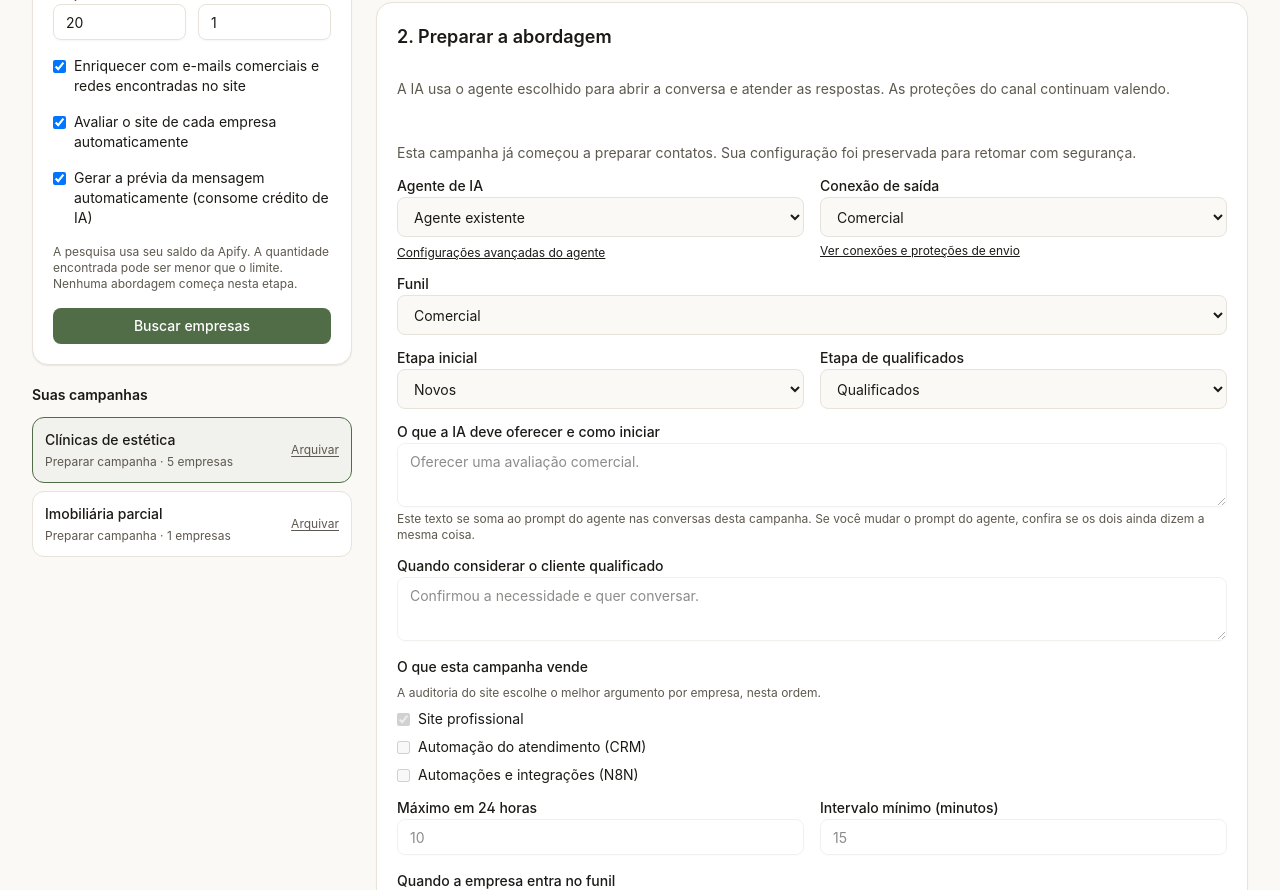
baixar a lista da campanha (issue #4360) › ao reabrir, a contagem da abertura anterior não vira link enquanto conta de novo
Later steps or results of the test are not shown.
(page scrolled)
Click the button "Clínicas de estética Preparar campanha · 5 empresas".
click(152, 450)  # box [33, 418, 271, 482]
(page scrolled)
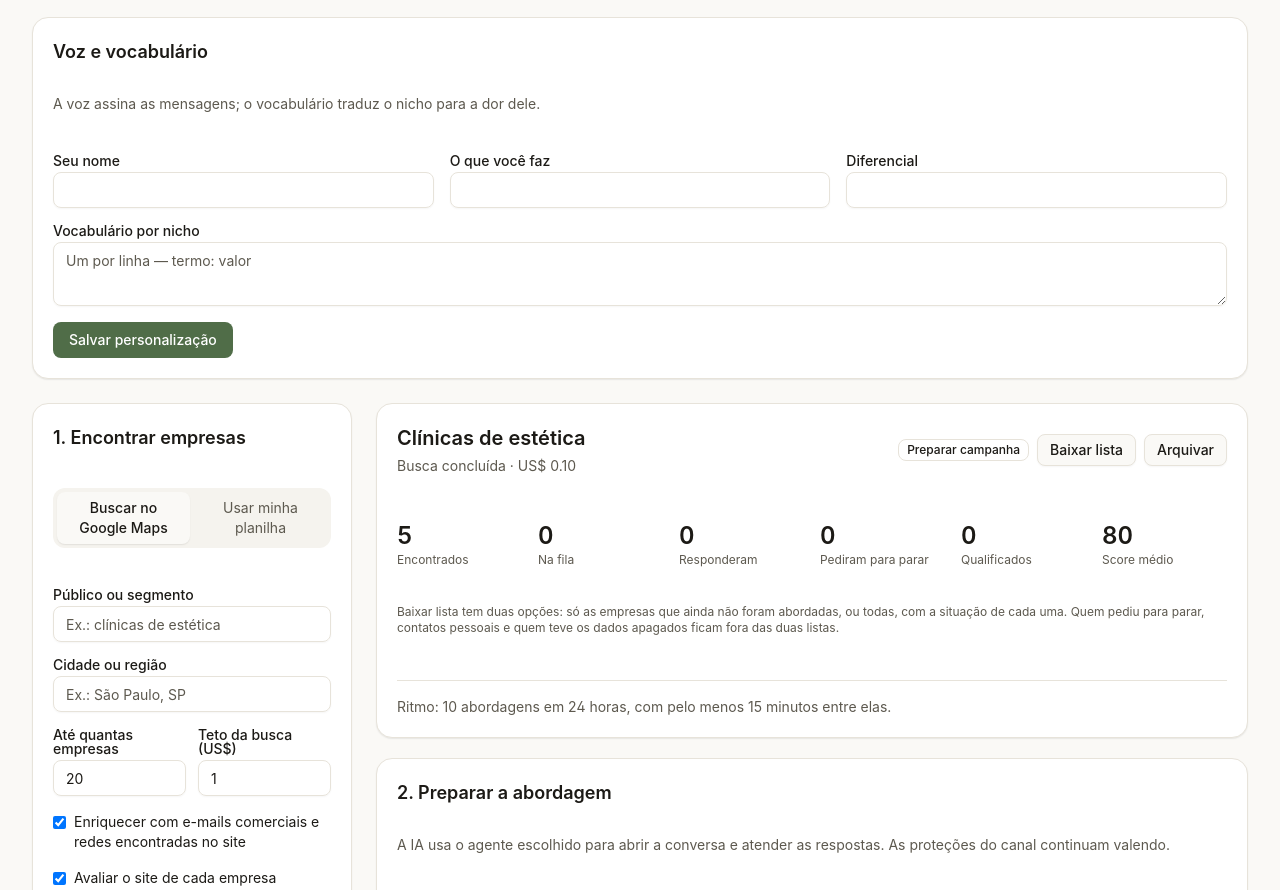
Click the button with test id "baixar-lista".
click(1086, 450)  # box [1037, 434, 1136, 466]
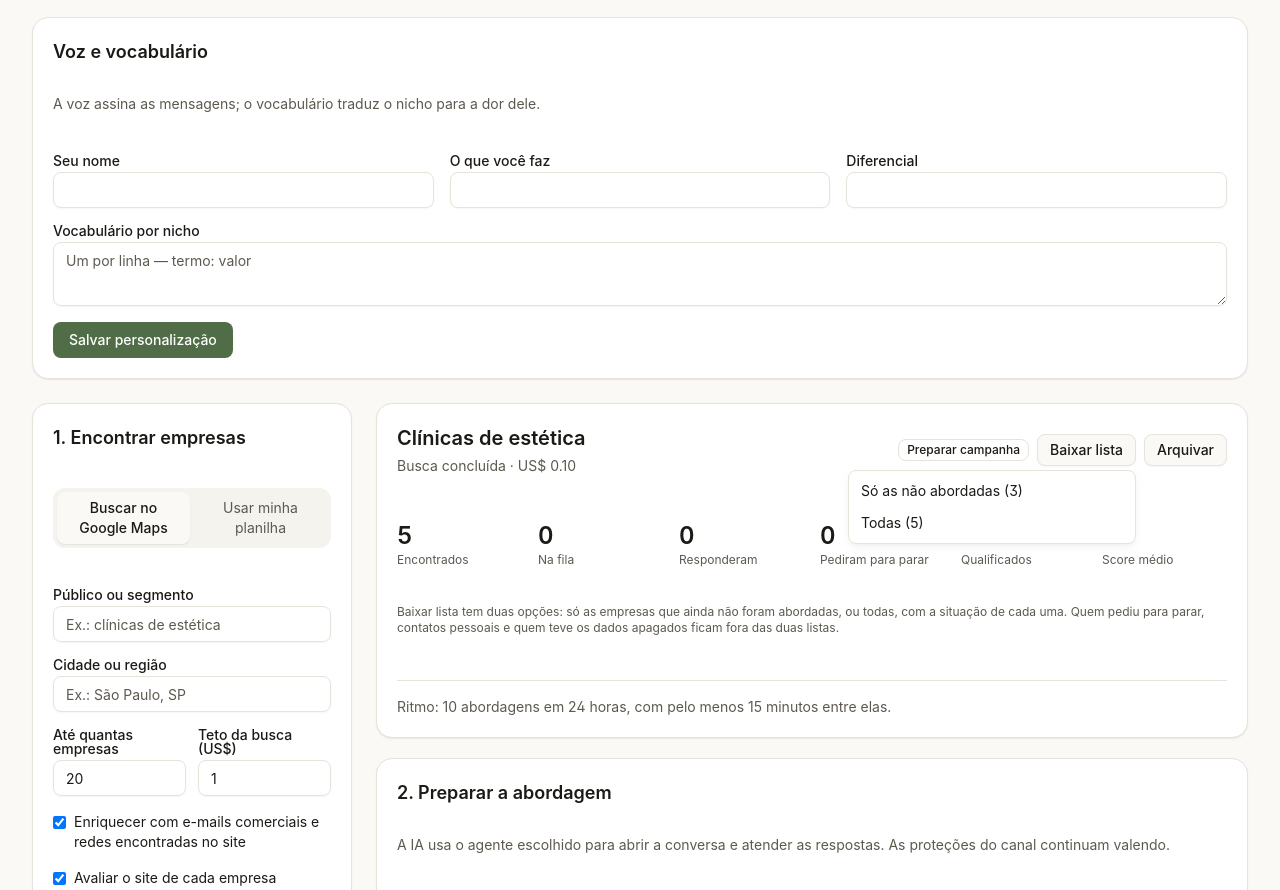
Press Escape
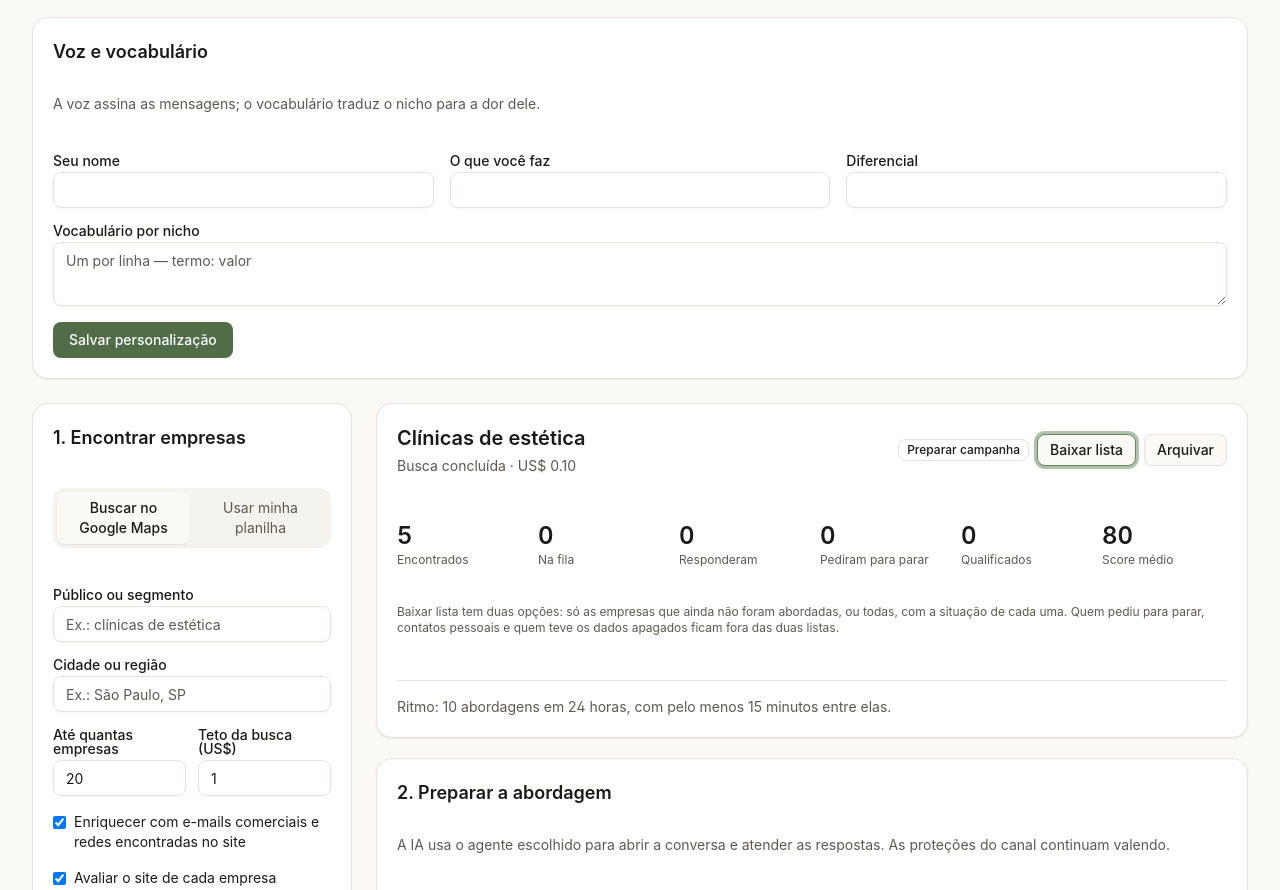
Check: the menu item is gone
